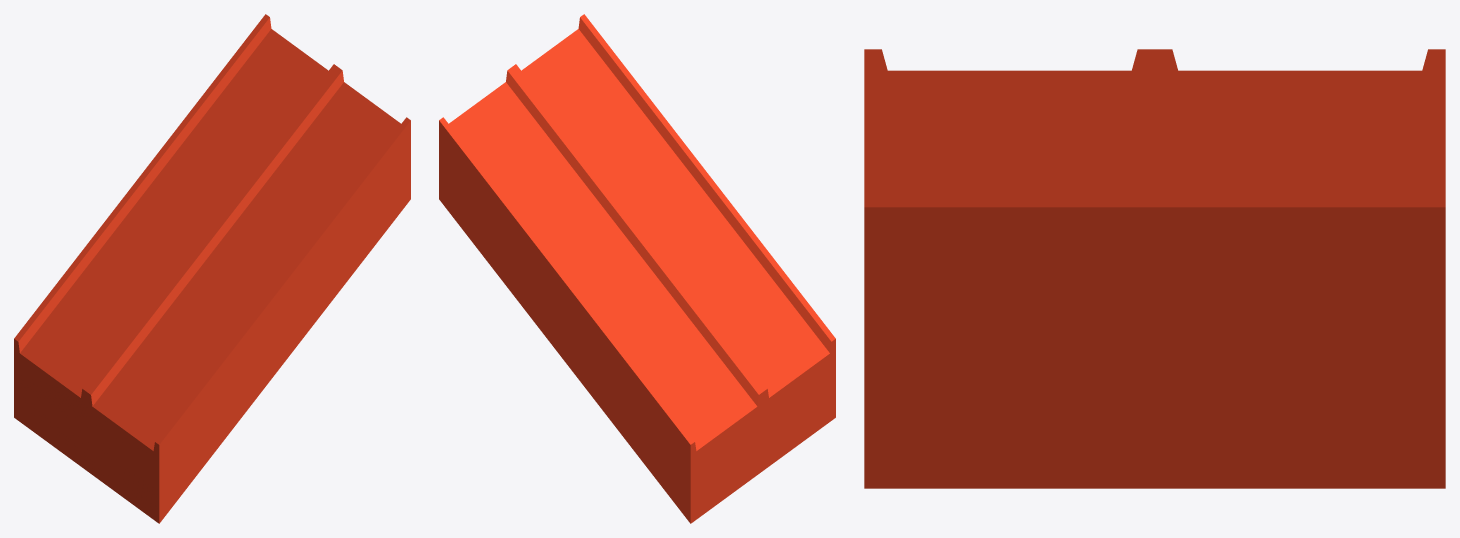
The model's file is roof-metal-regular-1x1m.fbx.
3 views of the same model, side by side, from view 1: azimuth 30°, elevation 25°; view 2: azimuth 150°, elevation 25°; view 3: azimuth 270°, elevation 25° (orthographic). The views are drawn at different scales.
Parts seen in each view (by area): view 1: roof-metal-regular-1x1m; view 2: roof-metal-regular-1x1m; view 3: roof-metal-regular-1x1m.
Part boxes in pixels (x1=…): roof-metal-regular-1x1m: x1=14, y1=14, x2=410, y2=523; roof-metal-regular-1x1m: x1=439, y1=14, x2=835, y2=523; roof-metal-regular-1x1m: x1=864, y1=49, x2=1445, y2=488.
Size of the model in its own units: 1 by 1.3 by 1.
